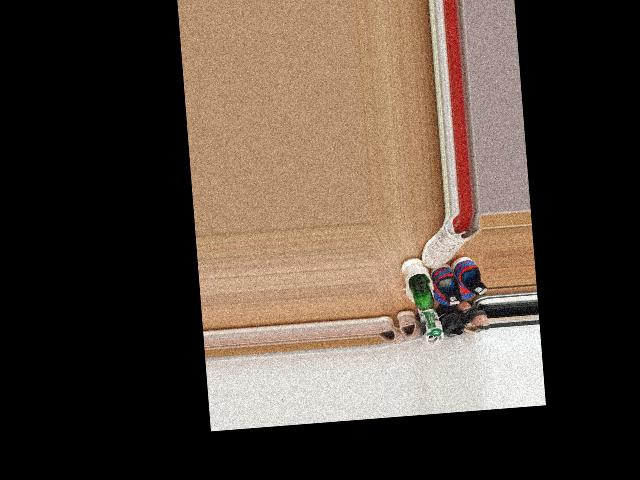beer: (408, 273, 436, 329)
